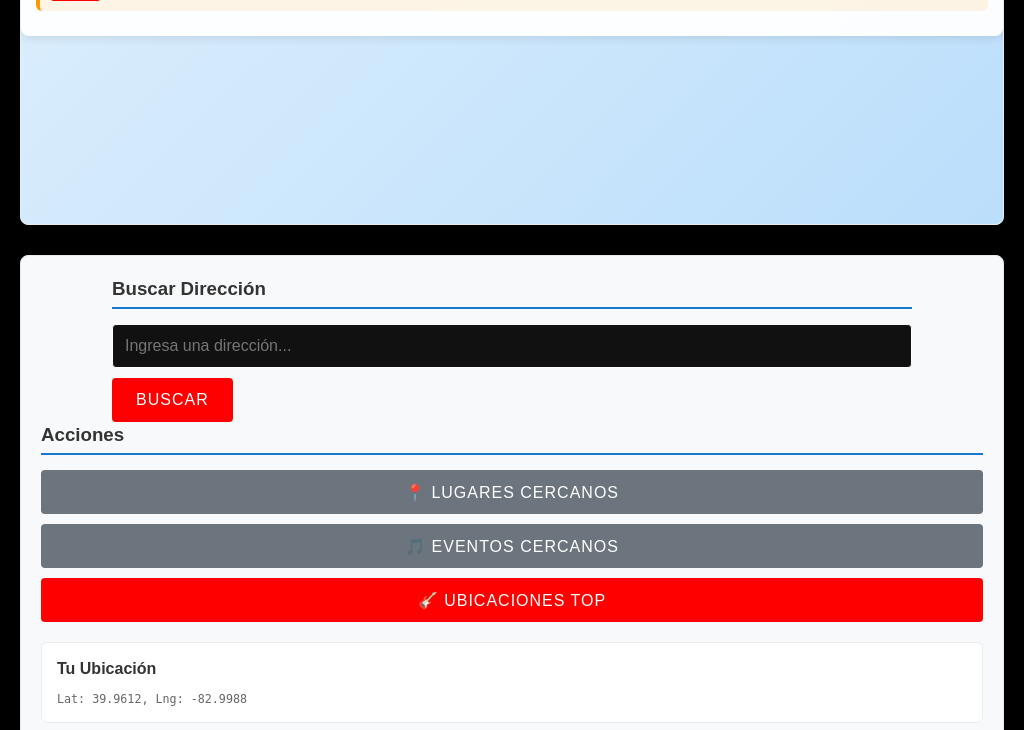
Test: Maps Component › Búsqueda de direcciones › debe mostrar ubicación seleccionada después de geocodificar
The width and height of the screenshot is (1024, 730).
(page scrolled)
Type "Columbus, Ohio" into the field with placeholder "Ingresa una dirección...". click: x=512, y=346
box: [112, 324, 912, 368]
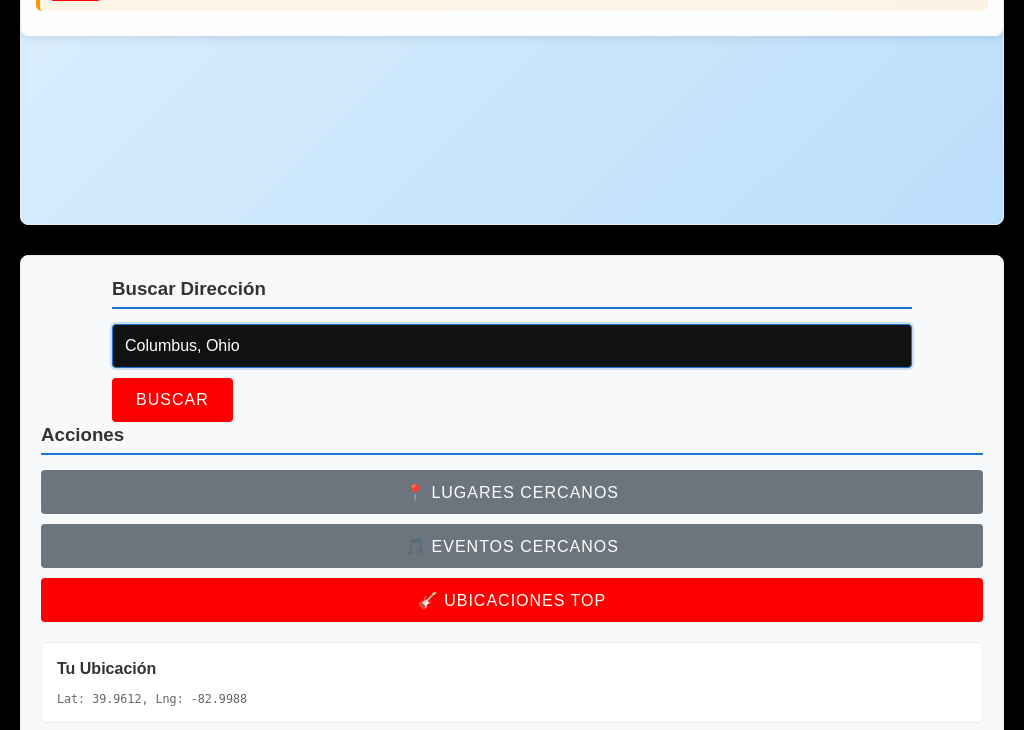
Click the button "Buscar". click: x=172, y=400
box: [112, 378, 233, 422]
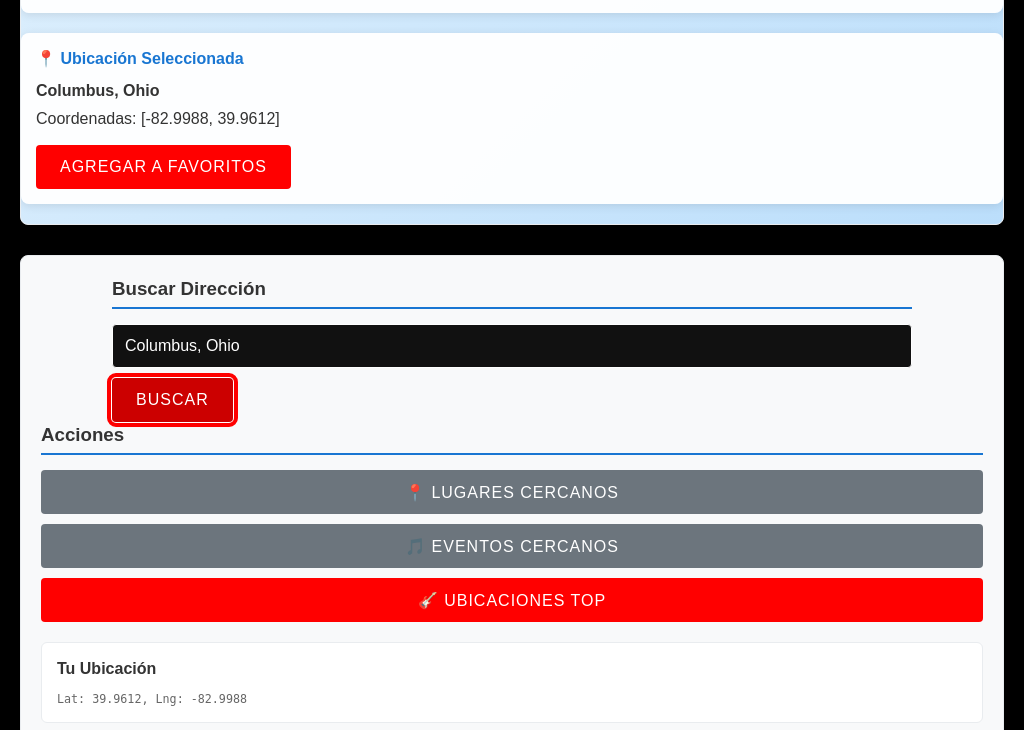
expect the heading "📍 Ubicación Seleccionada" is shown: met, box [36, 50, 244, 67]
expect the text "Columbus, Ohio" is shown: met, box [36, 82, 160, 99]
